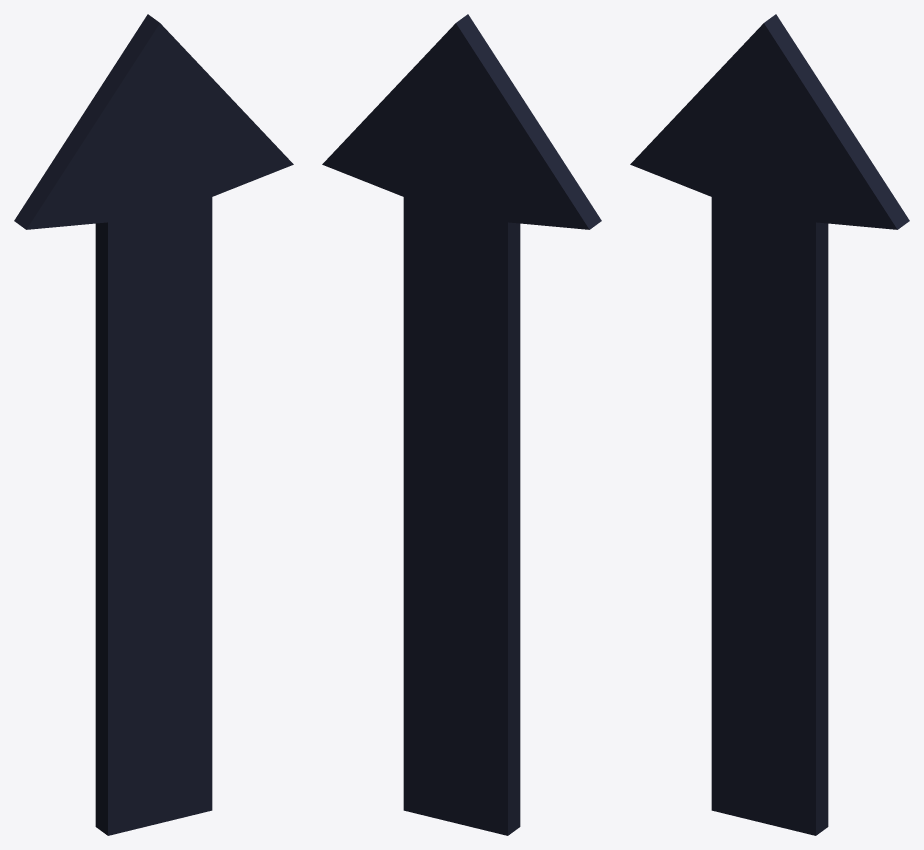
File: sm_env_depot_clock_hand_hour.glb
The picture shows the model from 3 angles, left to right: view 1: azimuth 30°, elevation 25°; view 2: azimuth 150°, elevation 25°; view 3: azimuth 330°, elevation 25°; orthographic projection.
Parts seen in each view (by area): view 1: Hand; view 2: Hand; view 3: Hand.
Part boxes in pixels (x1=…): Hand: x1=14, y1=14, x2=293, y2=835; Hand: x1=322, y1=14, x2=601, y2=835; Hand: x1=630, y1=14, x2=909, y2=835.
Bounding box in the file's own units: 0.126 × 0.36 × 0.01.
